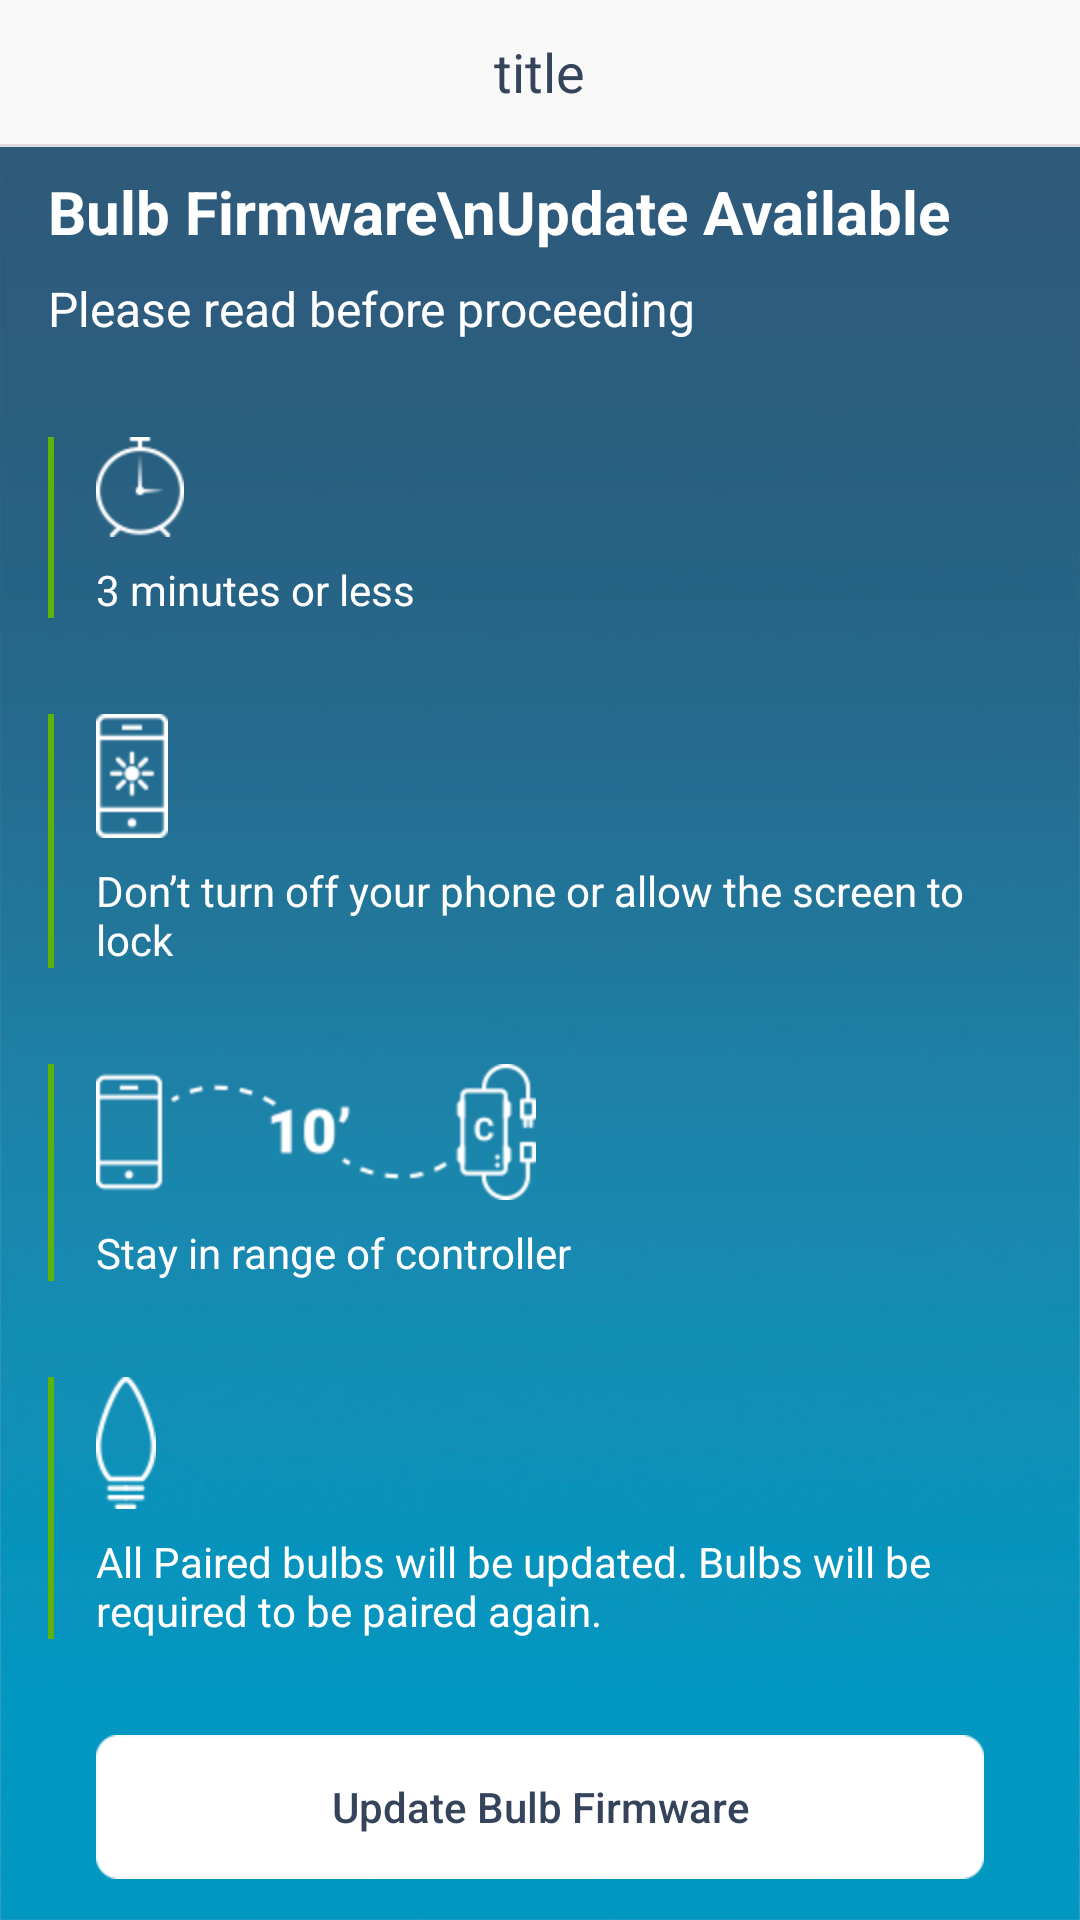

Icon click points for this 1080*1920 phone screenshot, format (x=x, y=y):
clock: (x=140, y=487)
